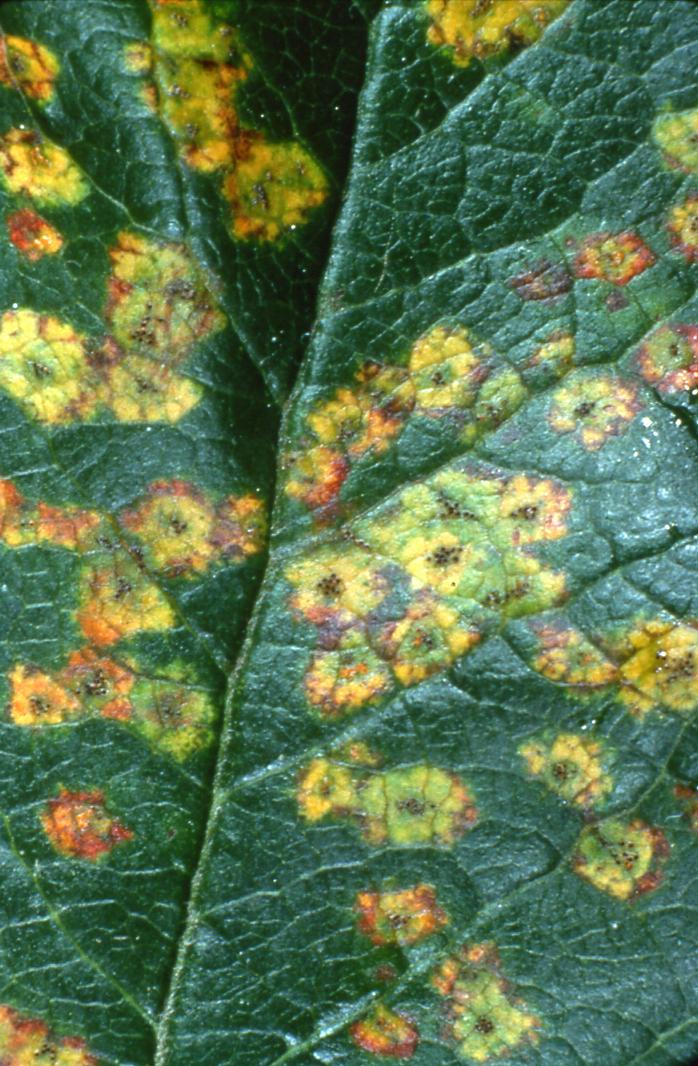Apple rust leaf: (1, 1, 692, 1064)
